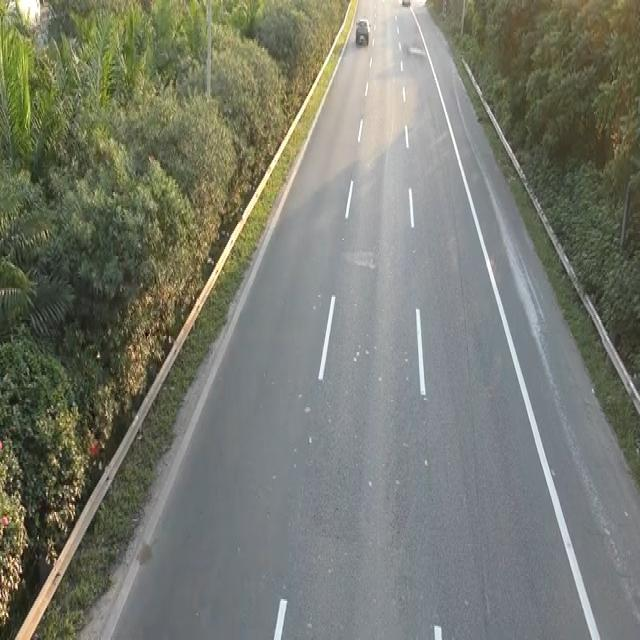bus: (354, 16, 370, 46)
